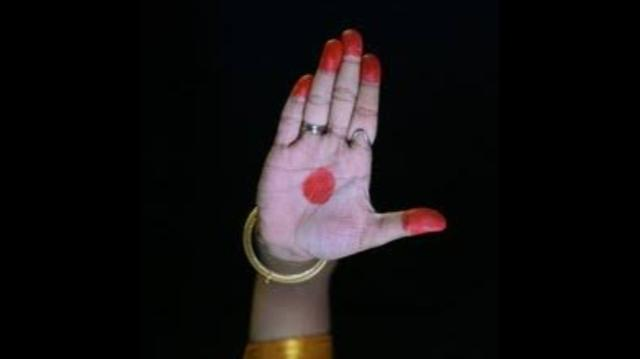ardhachandra: (213, 2, 446, 331)
